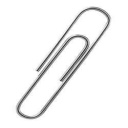Metal: (9, 3, 115, 122)
